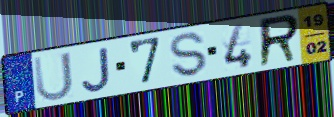4: (222, 23, 254, 70)
7: (127, 35, 162, 88)
J: (80, 45, 113, 93)
R: (257, 12, 301, 70)
S: (168, 31, 209, 79)
U: (31, 50, 76, 104)
